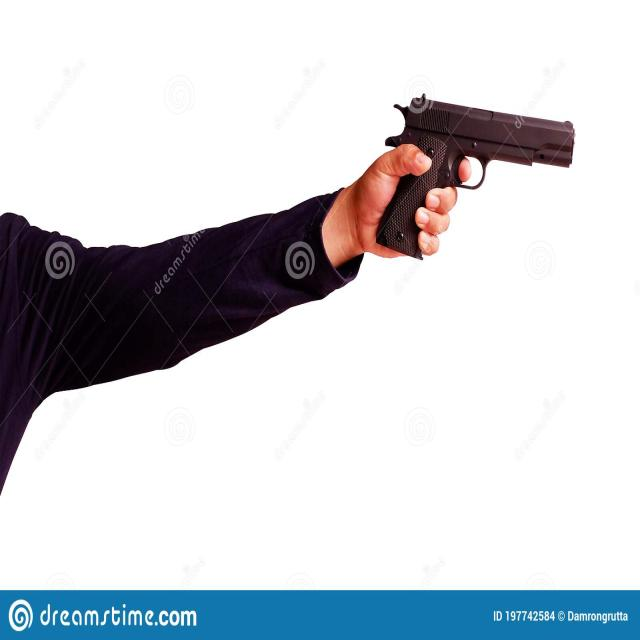HandGun: (376, 95, 575, 257)
